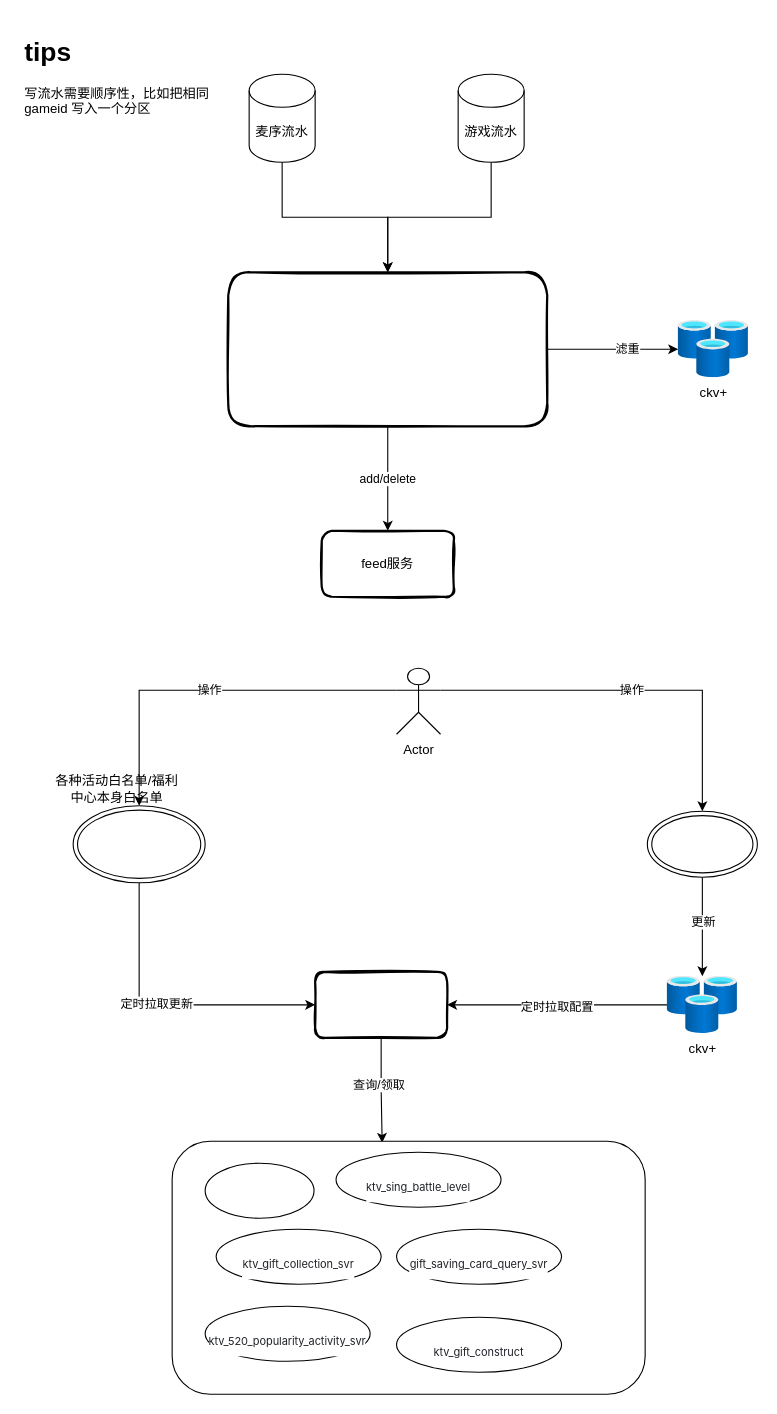
Image size: 777x1414. Some labels were removed from this diagram. The box of each missing label's shape, as (x1, y1, x2, y2) in pixels:
feed流预发布，有一定的过滤策略，比如不要私密房、隐藏动态的: (227, 271, 548, 427)
ktv_gift_back: (204, 1162, 314, 1218)
画像平台白名单: (72, 805, 205, 883)
福利中心查询服务: (314, 970, 448, 1038)
红石: (646, 810, 757, 877)
